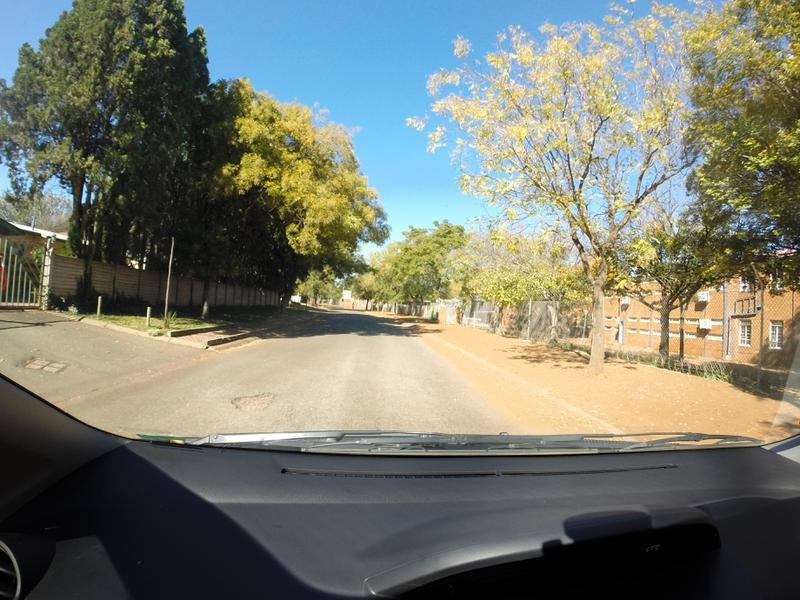pothole: (224, 387, 277, 418)
